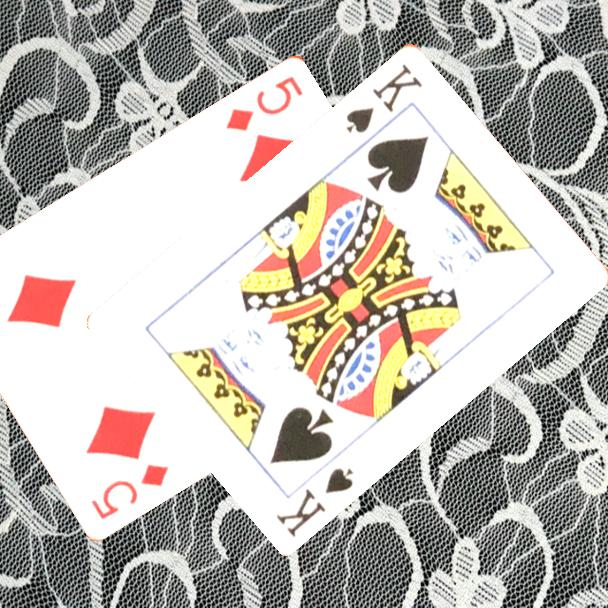d05: (87, 459, 172, 522), (222, 72, 306, 134)
s13: (272, 463, 357, 540), (342, 60, 426, 136)
